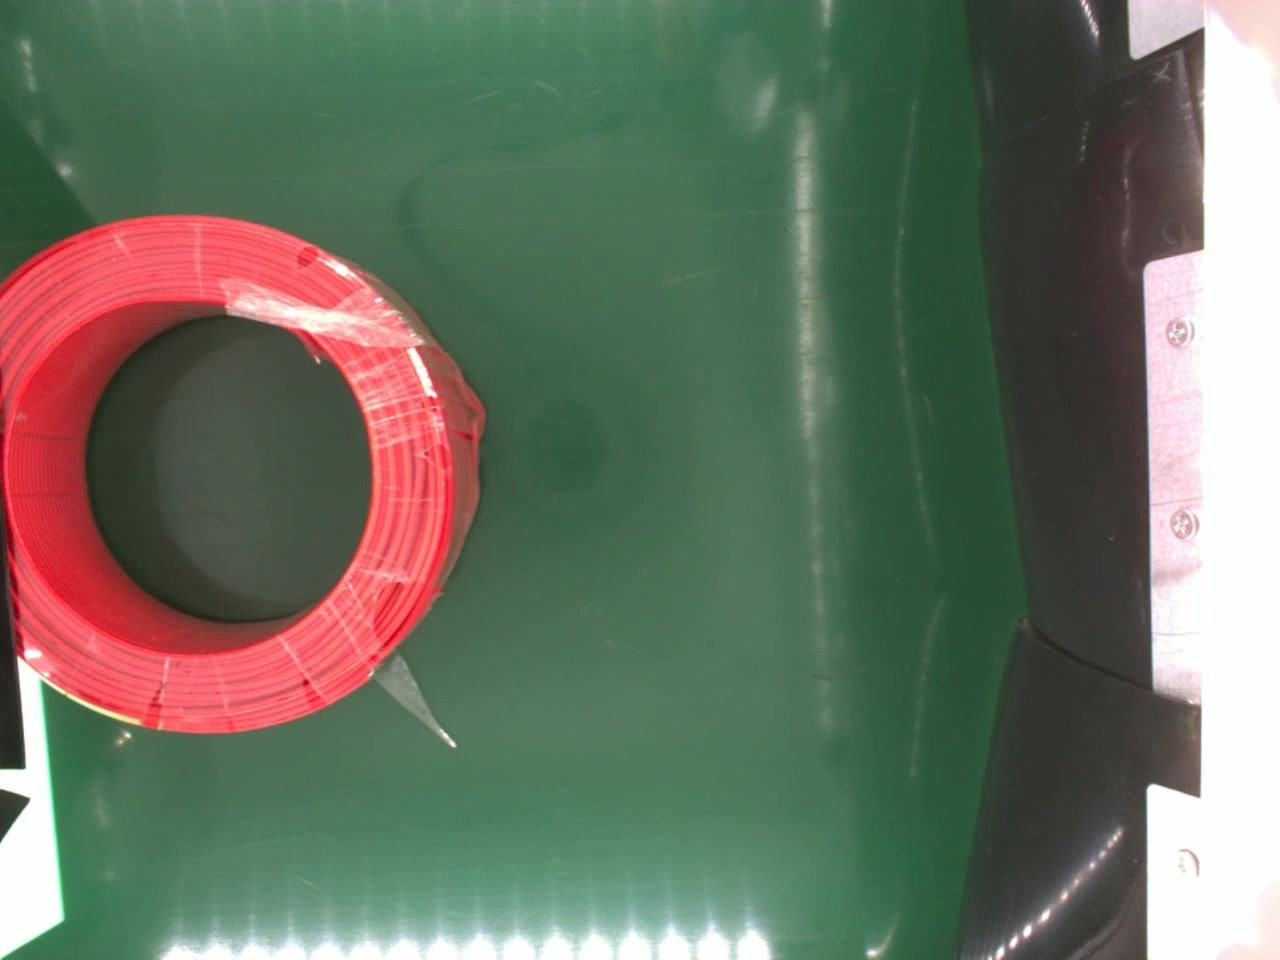red: (3, 213, 481, 737)
